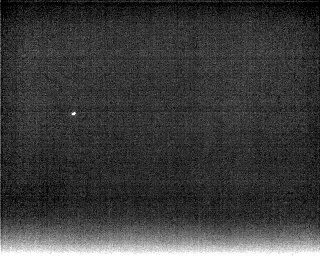BIRD: (70, 109, 78, 118)
